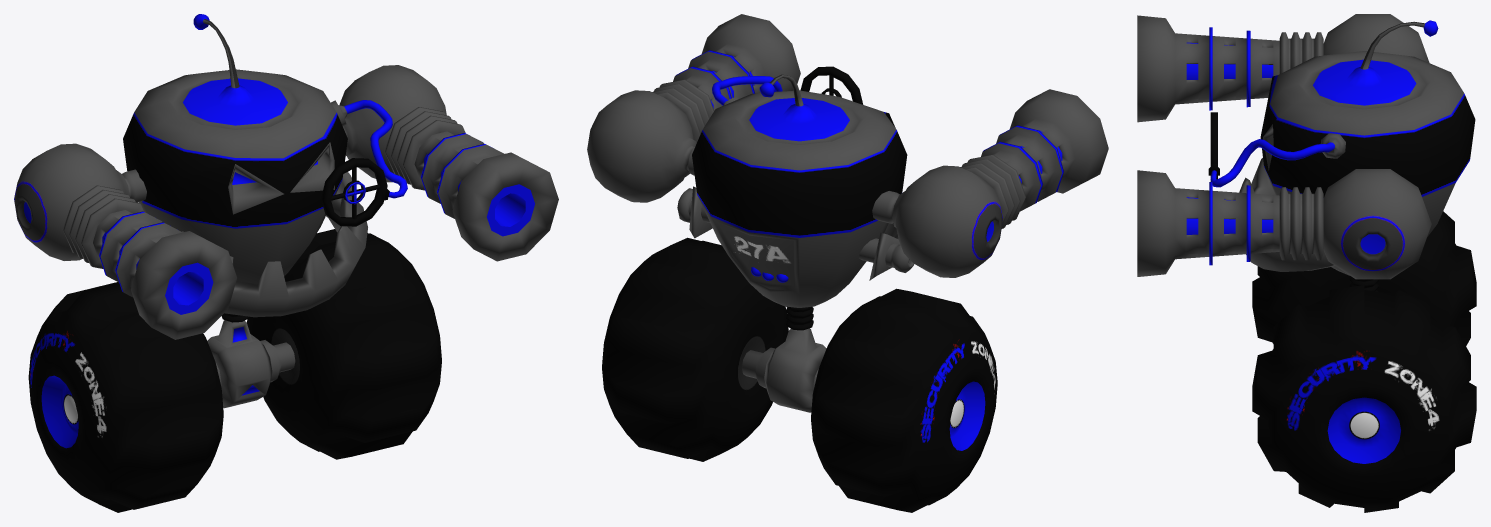
File: attackBot.fbx
3 views of the same model, side by side, from view 1: azimuth 30°, elevation 25°; view 2: azimuth 150°, elevation 25°; view 3: azimuth 270°, elevation 25° (orthographic). The views are drawn at different scales.
Parts seen in each view (by area): view 1: botBody, guns, rightWheel, leftWheel, axle; view 2: botBody, guns, rightWheel, leftWheel, axle; view 3: leftWheel, guns, botBody, rightWheel.
Boxes of the visible parts, bbox=[...] form: botBody: bbox=[123, 14, 407, 322]; guns: bbox=[14, 65, 558, 339]; rightWheel: bbox=[28, 282, 223, 512]; leftWheel: bbox=[247, 229, 441, 459]; axle: bbox=[207, 320, 295, 408]; botBody: bbox=[677, 66, 914, 330]; guns: bbox=[587, 14, 1108, 277]; rightWheel: bbox=[811, 288, 997, 512]; leftWheel: bbox=[602, 237, 788, 461]; axle: bbox=[742, 328, 826, 412]; leftWheel: bbox=[1252, 285, 1476, 512]; guns: bbox=[1137, 14, 1431, 279]; botBody: bbox=[1208, 20, 1475, 291]; rightWheel: bbox=[1252, 211, 1476, 345].
Size of the model in its own units: 0.0953 by 0.0948 by 0.0682.
Materials: 4 (4 with a texture image).
